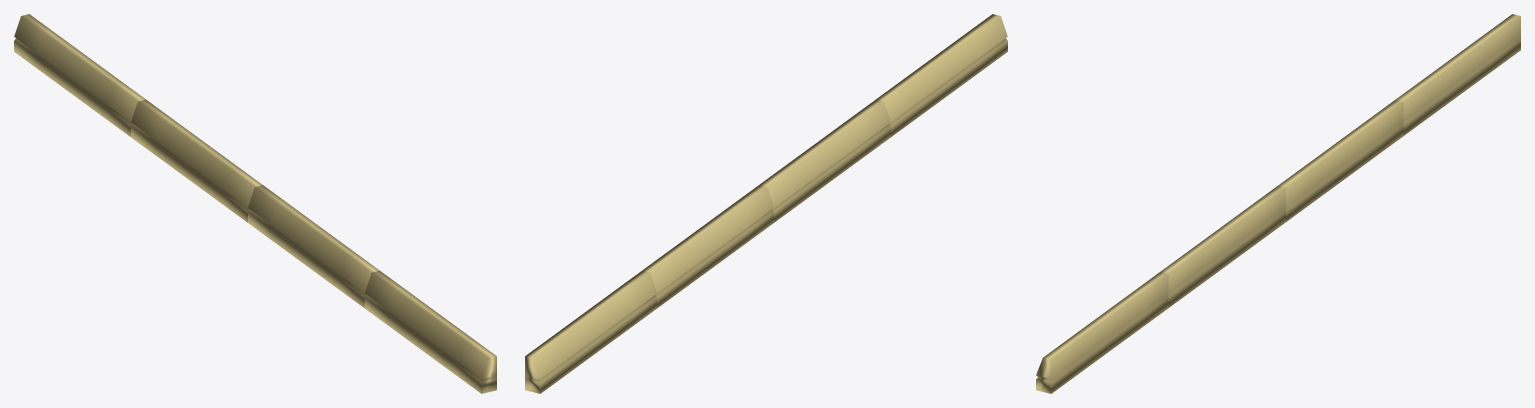
File: Wall_Orn_03_x4.fbx
3 views of the same model, side by side, from view 1: azimuth 30°, elevation 25°; view 2: azimuth 150°, elevation 25°; view 3: azimuth 330°, elevation 25° (orthographic).
Parts seen in each view (by area): view 1: Wall_Orn_03_x4; view 2: Wall_Orn_03_x4; view 3: Wall_Orn_03_x4.
Part boxes in pixels (x1,y1,x2,y2): Wall_Orn_03_x4: (14, 14, 496, 393); Wall_Orn_03_x4: (525, 14, 1007, 393); Wall_Orn_03_x4: (1036, 14, 1520, 393).
Bounding box in the file's own units: 22.62 × 48.3 × 1200.
